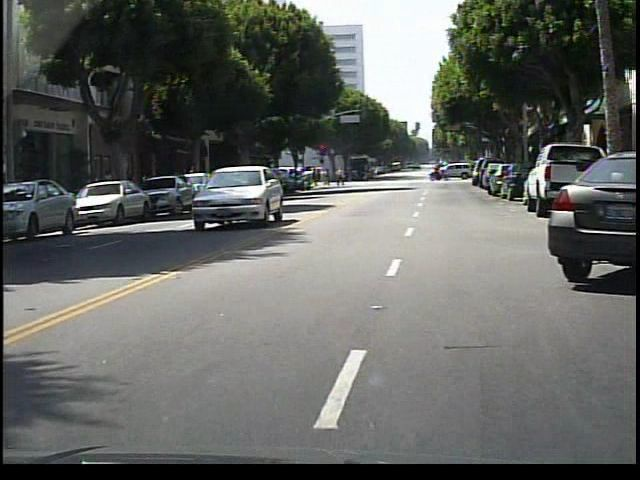person: (330, 163, 350, 192)
